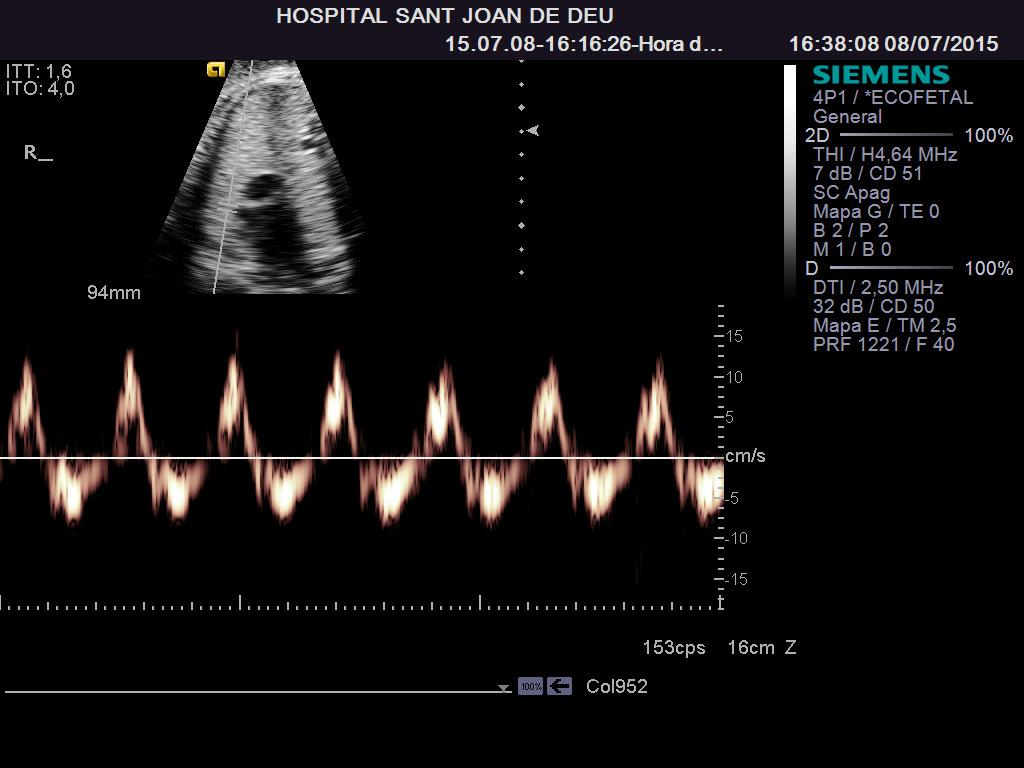Ultrasound-Waves: (3, 309, 712, 595)
